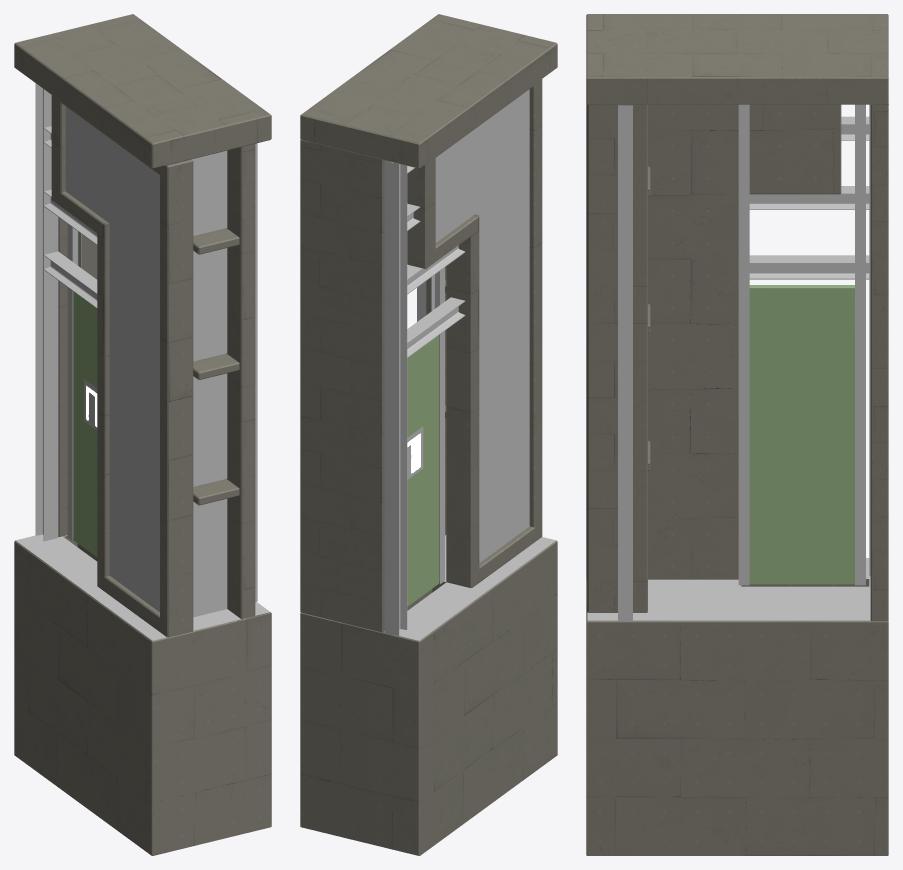
Rendered from DoorBetween.fbx.
3 views of the same model, side by side, from view 1: azimuth 30°, elevation 25°; view 2: azimuth 150°, elevation 25°; view 3: azimuth 270°, elevation 25° (orthographic). The views are drawn at different scales.
Parts seen in each view (by area): view 1: WallDoorway, Floor, SteelFrame, Door, DoorTrack01; view 2: WallDoorway, Floor, SteelFrame, Door, DoorTrack02; view 3: WallDoorway, Floor, Door, SteelFrame, DoorTrack02, DoorTrack01.
Boxes of the visible parts, box(x1,y1,x2,y2) form: WallDoorway: box(14, 14, 271, 637); Floor: box(14, 534, 271, 855); SteelFrame: box(35, 83, 97, 541); Door: box(73, 291, 97, 557); DoorTrack01: box(67, 224, 81, 540); WallDoorway: box(300, 14, 557, 632); Floor: box(300, 535, 557, 855); SteelFrame: box(384, 161, 465, 635); Door: box(407, 335, 438, 606); DoorTrack02: box(431, 267, 444, 584); WallDoorway: box(586, 14, 888, 621); Floor: box(586, 558, 888, 855); Door: box(749, 285, 854, 584); SteelFrame: box(749, 104, 870, 576); DoorTrack02: box(738, 104, 749, 585); DoorTrack01: box(855, 104, 865, 585).
Size of the model in its own units: 250 by 1420 by 500.
